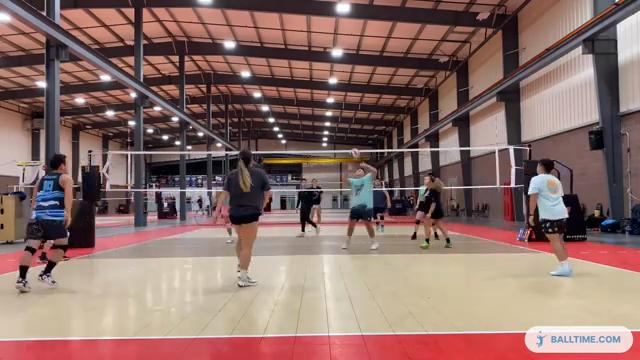alzata: (337, 146, 381, 251)
